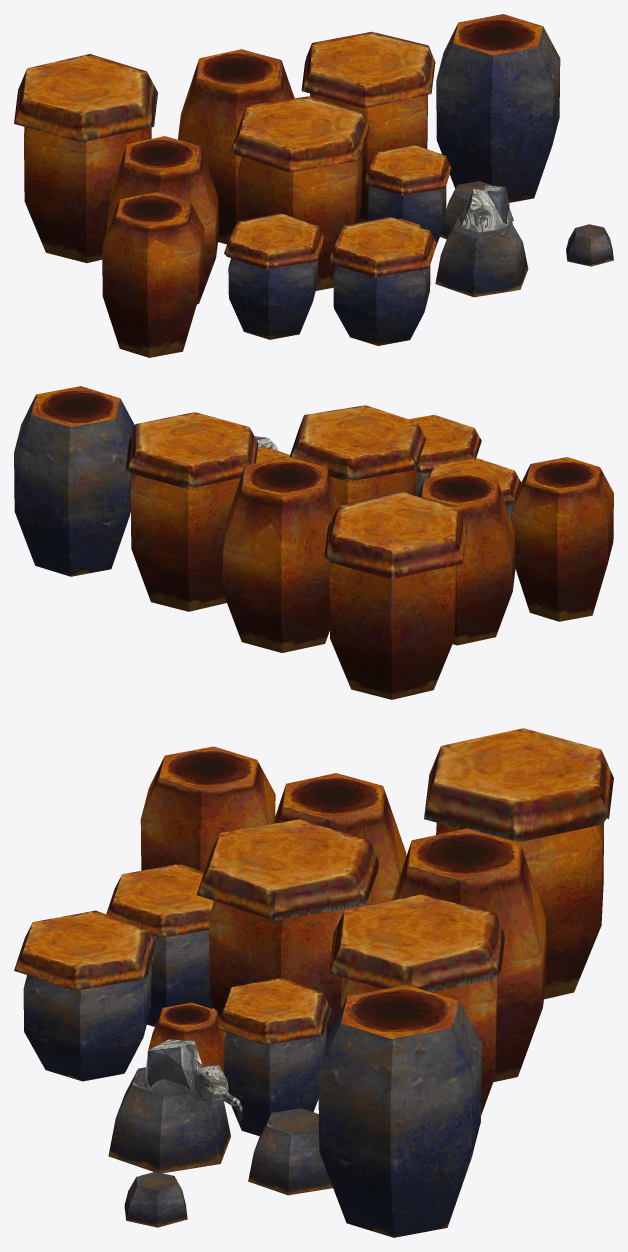
Rendered from xs__Item_guanzi_1.FBX.
3 renders of one model, top to bottom at view 1: azimuth 30°, elevation 25°; view 2: azimuth 150°, elevation 25°; view 3: azimuth 270°, elevation 25°, orthographic. The views are drawn at different scales.
Parts seen in each view (by area): view 1: xs__Item_guanzi_1; view 2: xs__Item_guanzi_1; view 3: xs__Item_guanzi_1.
Boxes of the visible parts, bbox=[...] form: xs__Item_guanzi_1: bbox=[14, 14, 613, 357]; xs__Item_guanzi_1: bbox=[14, 386, 613, 699]; xs__Item_guanzi_1: bbox=[14, 728, 613, 1237].
Bounding box in the file's own units: 442 × 128 × 332.
